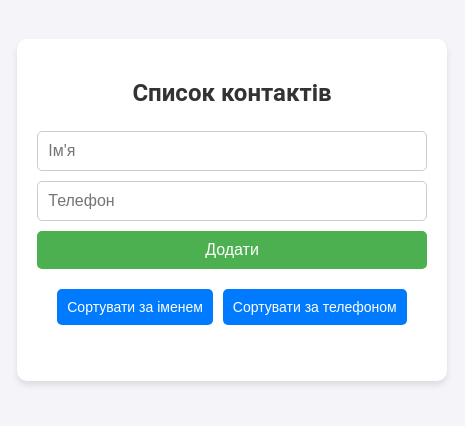
ContactsFields Component › should add a new contact
Type "John Doe" into the field with placeholder "Ім" at (232, 151), box [37, 131, 427, 171]
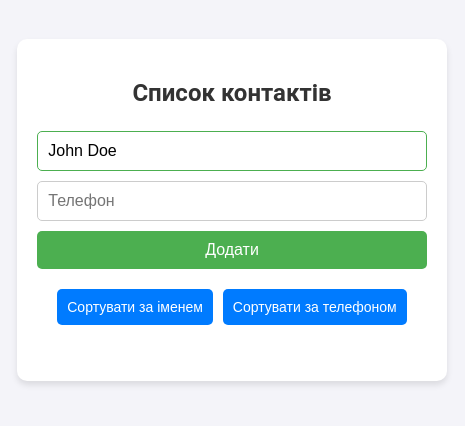
Type "123456789" into the field with placeholder "Телефон" at (232, 201), box [37, 181, 427, 221]
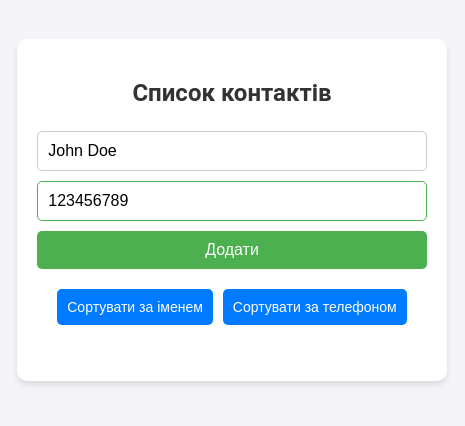
Click the button "Додати" at (232, 250), box [37, 231, 427, 269]
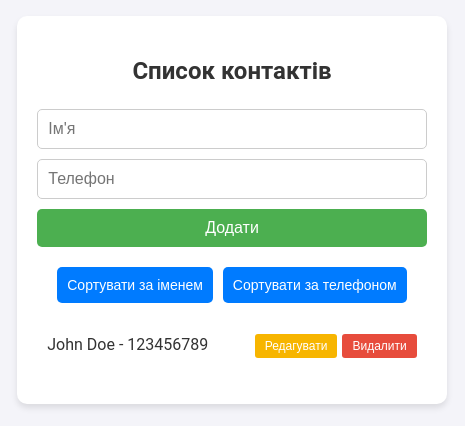
expect the text with class "contacts-list" reads "John Doe - 123456789": met, box [47, 333, 208, 357]
